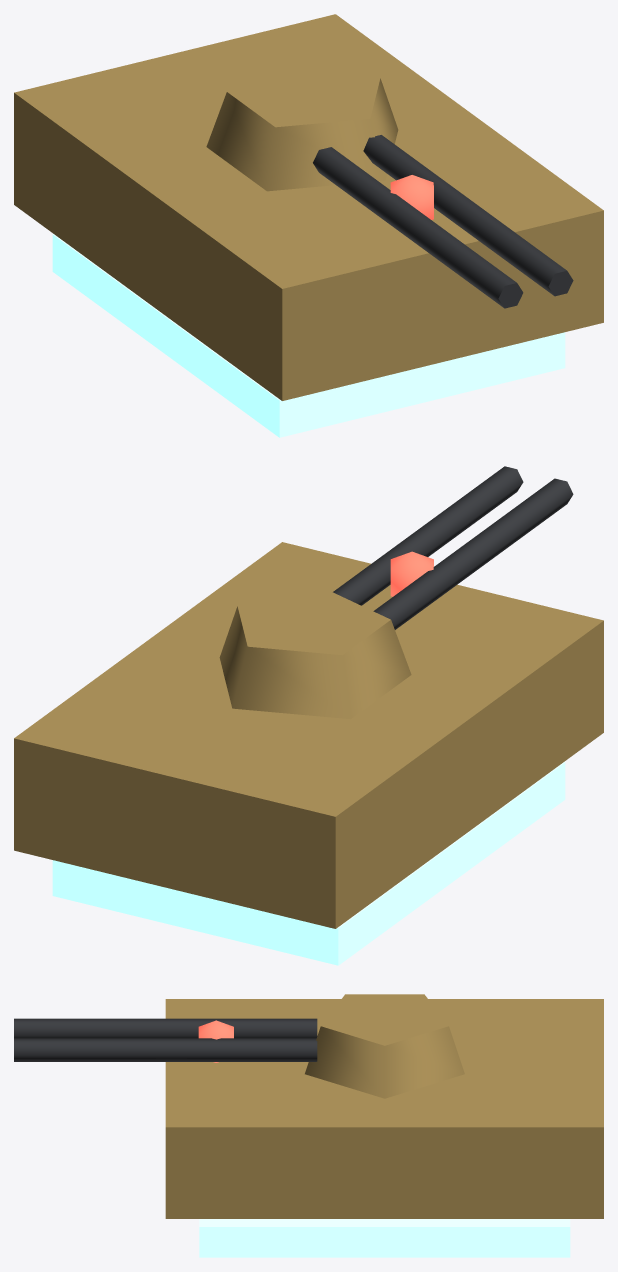
Rendered from unit_mil_ground_drone_a10_lod1.glb.
The picture shows the model from 3 angles, top to bottom: view 1: azimuth 30°, elevation 25°; view 2: azimuth 150°, elevation 25°; view 3: azimuth 270°, elevation 25°; orthographic projection. The views are drawn at different scales.
Parts seen in each view (by area): view 1: body, turret; view 2: body, turret; view 3: body, turret.
Boxes of the visible parts, x1,y1,x2,y2 form: body: [14, 14, 603, 437]; turret: [206, 61, 573, 308]; body: [14, 542, 603, 965]; turret: [219, 466, 573, 719]; body: [165, 999, 603, 1257]; turret: [14, 994, 464, 1098].
Size of the model in its own units: 0.9 by 0.6 by 1.75.
